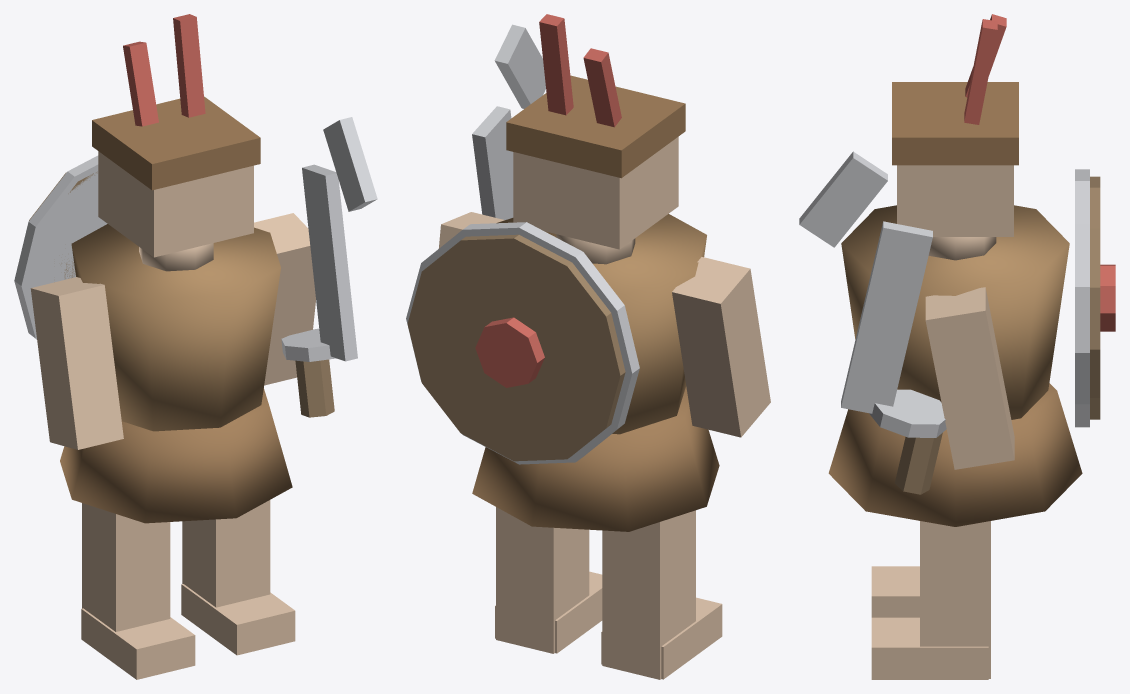
Rendered from troop-nanman.glb.
3 views of the same model, side by side, from view 1: azimuth 30°, elevation 25°; view 2: azimuth 150°, elevation 25°; view 3: azimuth 270°, elevation 25° (orthographic). The views are drawn at different scales.
Parts seen in each view (by area): view 1: body, skirt, arm_l, head, headband, leg_l, leg_r, shield_rim, dao_blade, arm_r, foot_l, foot_r (+6 smaller); view 2: shield_round, skirt, arm_l, leg_l, body, head, headband, leg_r, shield_rim, dao_blade, shield_boss, dao_tip (+6 smaller); view 3: body, skirt, arm_r, headband, dao_blade, leg_r, head, foot_r, dao_tip, shield_rim, shield_round, dao_guard (+5 smaller).
Boxes of the visible parts, x1=… form: body: x1=71, y1=224, x2=280, y2=431; skirt: x1=60, y1=388, x2=292, y2=523; arm_l: x1=30, y1=277, x2=123, y2=449; head: x1=98, y1=151, x2=253, y2=257; headband: x1=92, y1=96, x2=260, y2=190; leg_l: x1=82, y1=503, x2=170, y2=631; leg_r: x1=182, y1=500, x2=270, y2=607; shield_rim: x1=14, y1=155, x2=107, y2=339; dao_blade: x1=302, y1=164, x2=357, y2=361; arm_r: x1=254, y1=213, x2=315, y2=385; foot_l: x1=81, y1=608, x2=195, y2=679; foot_r: x1=181, y1=584, x2=295, y2=655; shield_round: x1=407, y1=234, x2=625, y2=461; skirt: x1=472, y1=386, x2=719, y2=531; arm_l: x1=672, y1=257, x2=770, y2=437; leg_l: x1=602, y1=510, x2=695, y2=679; body: x1=496, y1=214, x2=706, y2=434; head: x1=513, y1=137, x2=678, y2=249; headband: x1=506, y1=75, x2=685, y2=178; leg_r: x1=496, y1=507, x2=589, y2=653; shield_rim: x1=406, y1=222, x2=639, y2=464; dao_blade: x1=472, y1=106, x2=513, y2=219; shield_boss: x1=475, y1=317, x2=544, y2=387; dao_tip: x1=494, y1=24, x2=545, y2=108; body: x1=841, y1=205, x2=1069, y2=419; skirt: x1=828, y1=383, x2=1082, y2=526; arm_r: x1=925, y1=287, x2=1014, y2=469; headband: x1=892, y1=82, x2=1018, y2=165; dao_blade: x1=841, y1=221, x2=932, y2=413; leg_r: x1=920, y1=521, x2=990, y2=678; head: x1=897, y1=165, x2=1013, y2=236; foot_r: x1=871, y1=617, x2=988, y2=679; dao_tip: x1=799, y1=151, x2=887, y2=247; shield_rim: x1=1075, y1=169, x2=1089, y2=427; shield_round: x1=1090, y1=176, x2=1100, y2=419; dao_guard: x1=869, y1=389, x2=946, y2=437.
Size of the model in its own units: 0.137 by 0.2732 by 0.1245.
